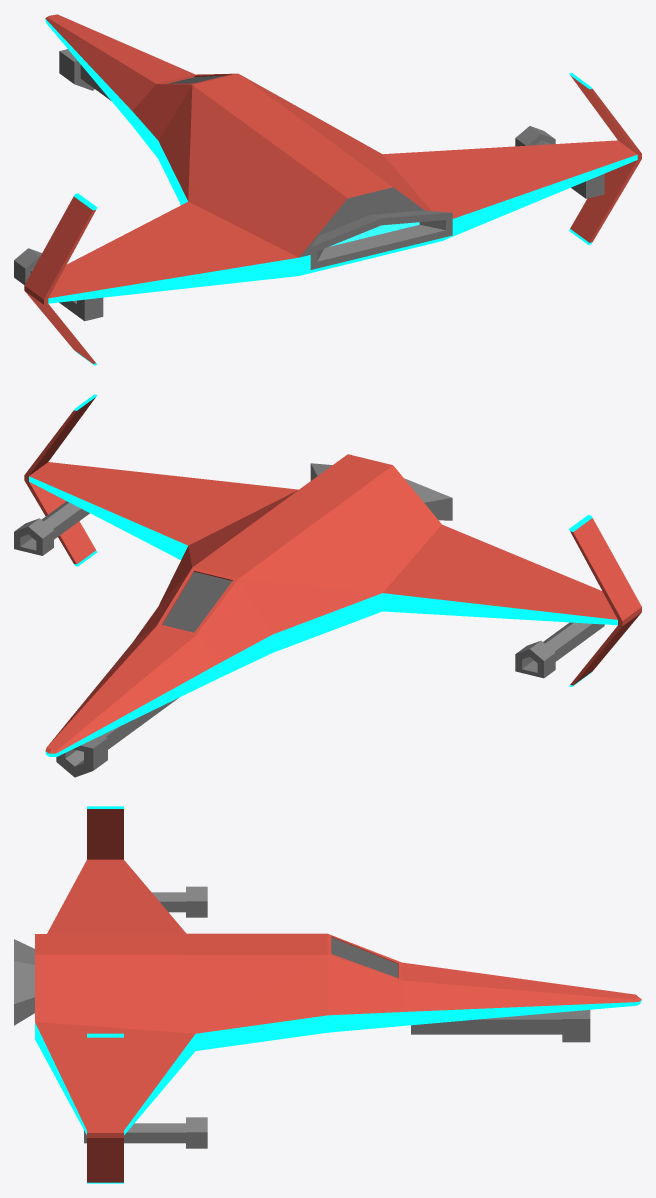
Rendered from mainship.glb.
The picture shows the model from 3 angles, top to bottom: view 1: azimuth 30°, elevation 25°; view 2: azimuth 150°, elevation 25°; view 3: azimuth 270°, elevation 25°; orthographic projection. The views are drawn at different scales.
Parts seen in each view (by area): view 1: Ship, SideGuns, BottomGun; view 2: Ship, SideGuns, BottomGun; view 3: Ship, BottomGun, SideGuns.
Boxes of the visible parts, x1,y1,x2,y2 form: Ship: (24,14,641,365); SideGuns: (14,126,604,321); BottomGun: (59,49,110,100); Ship: (24,394,641,756); SideGuns: (14,501,604,678); BottomGun: (56,698,178,777); Ship: (14,806,641,1183); BottomGun: (411,1010,590,1042); SideGuns: (84,886,207,1148).
Bounding box in the file's own units: 2.37 × 0.5971 × 2.29.
